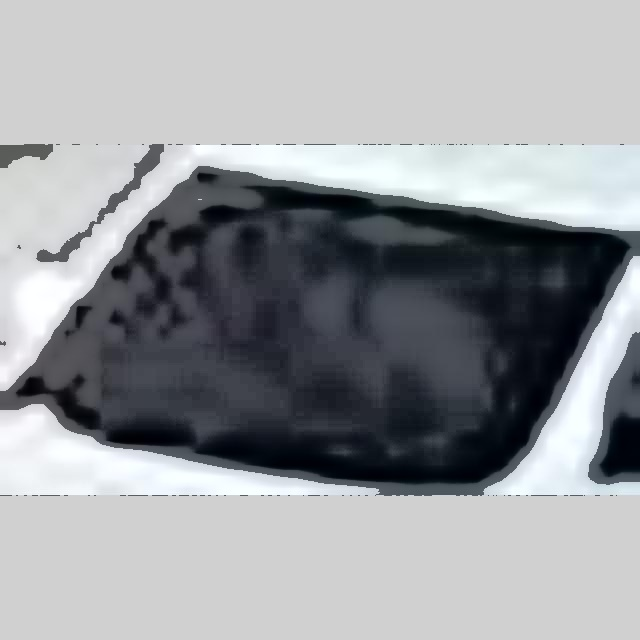pakai: (266, 230, 495, 423)
